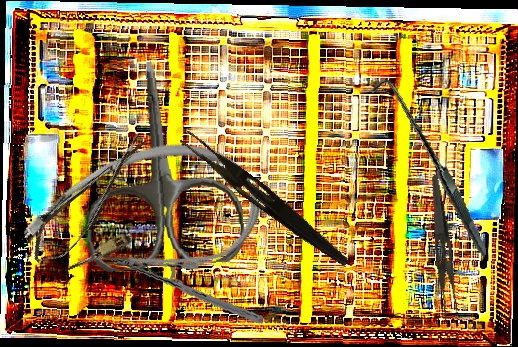Cannula: (11, 117, 272, 321)
Dressing Forceps: (175, 129, 356, 270), (414, 173, 467, 323)
Hook Surgical: (345, 77, 515, 259)
Iris Scissors: (73, 54, 247, 274)
Micro Scissor: (20, 127, 160, 274)
Needle Holder: (113, 239, 264, 342)
